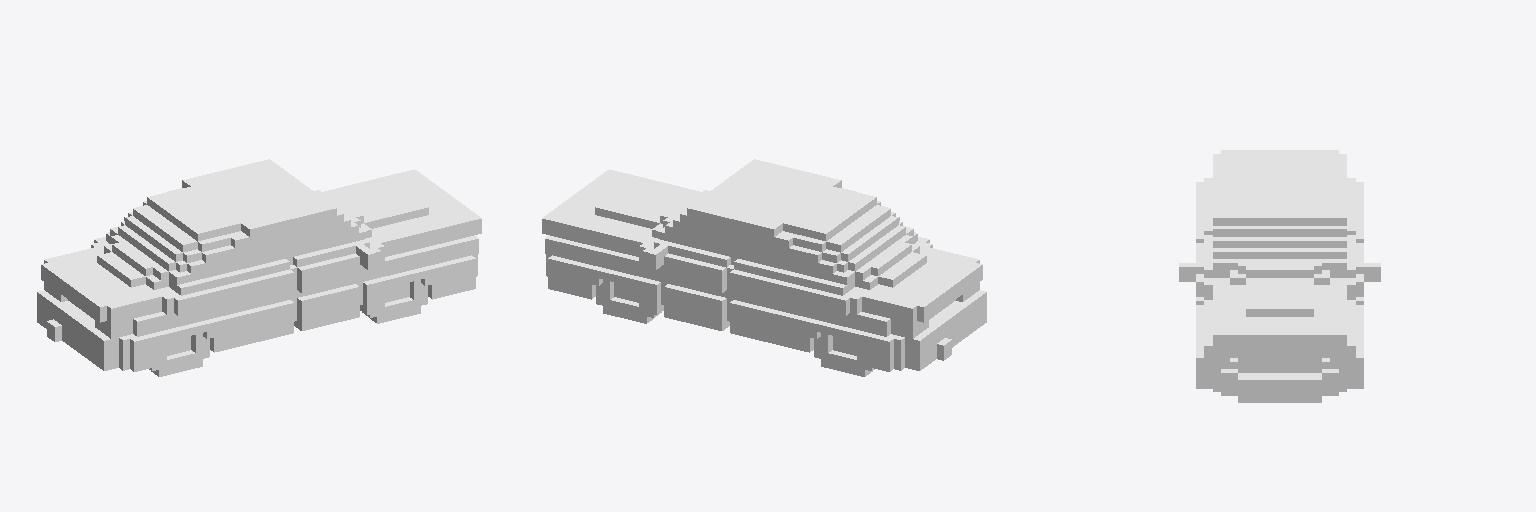
File: Shop-3-Car.obj
The picture shows the model from 3 angles: view 1: azimuth 30°, elevation 25°; view 2: azimuth 150°, elevation 25°; view 3: azimuth 270°, elevation 25°; orthographic projection.
Visible parts, largest first — view 1: Car; view 2: Car; view 3: Car.
Part boxes in pixels (x1,y1,x2,y2): Car: (37,159,481,376); Car: (542,159,986,376); Car: (1179,150,1380,402).
Size of the model in its own units: 5.3 by 1.6 by 2.4.